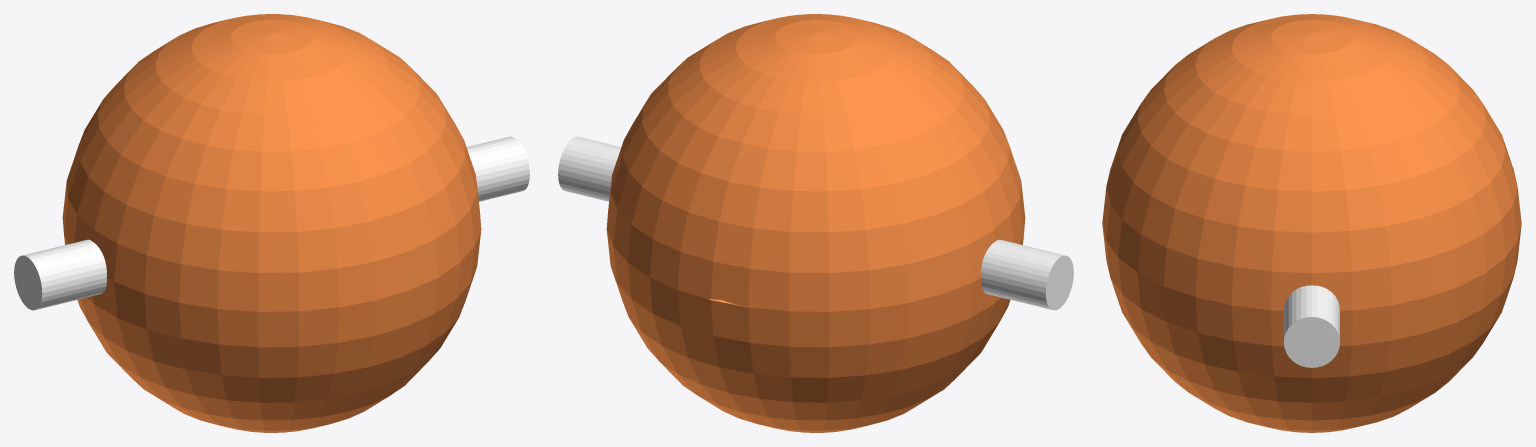
File: goal.obj
3 views of the same model, side by side, from view 1: azimuth 30°, elevation 25°; view 2: azimuth 150°, elevation 25°; view 3: azimuth 270°, elevation 25° (orthographic).
Parts seen in each view (by area): view 1: 球; view 2: 球; view 3: 球.
Part boxes in pixels (<box>): 球: <box>14,14,529,432</box>; 球: <box>558,14,1073,432</box>; 球: <box>1102,14,1521,432</box>.
Size of the model in its own units: 3 by 2.24 by 2.24.
1 material, 1 textured.
